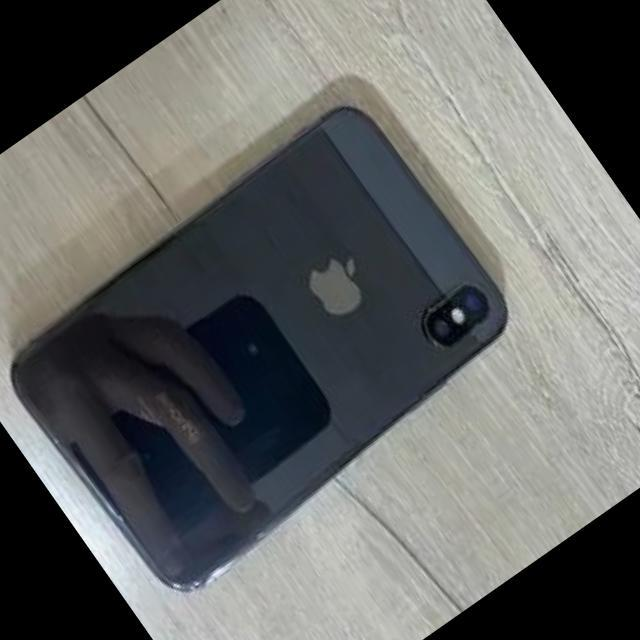phone good: (6, 66, 541, 613)
